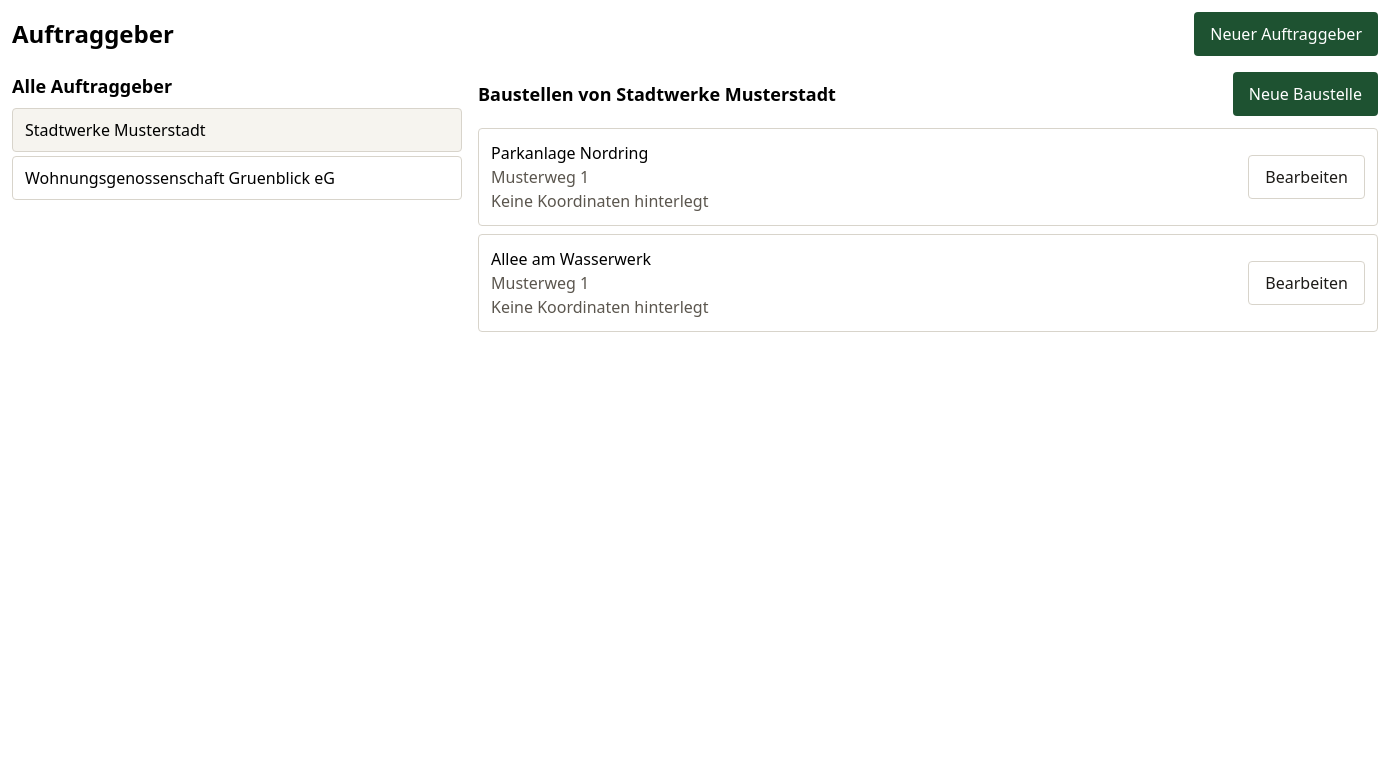
Test: CustomerPanel › fuehrt keine CRM-Felder - auf keiner der beiden Formularflaechen
What coordinates should you click on to do the following:
click the button "Stadtwerke Musterstadt"
I would click on:
 (115, 130)
Its box is [12,108,462,152].
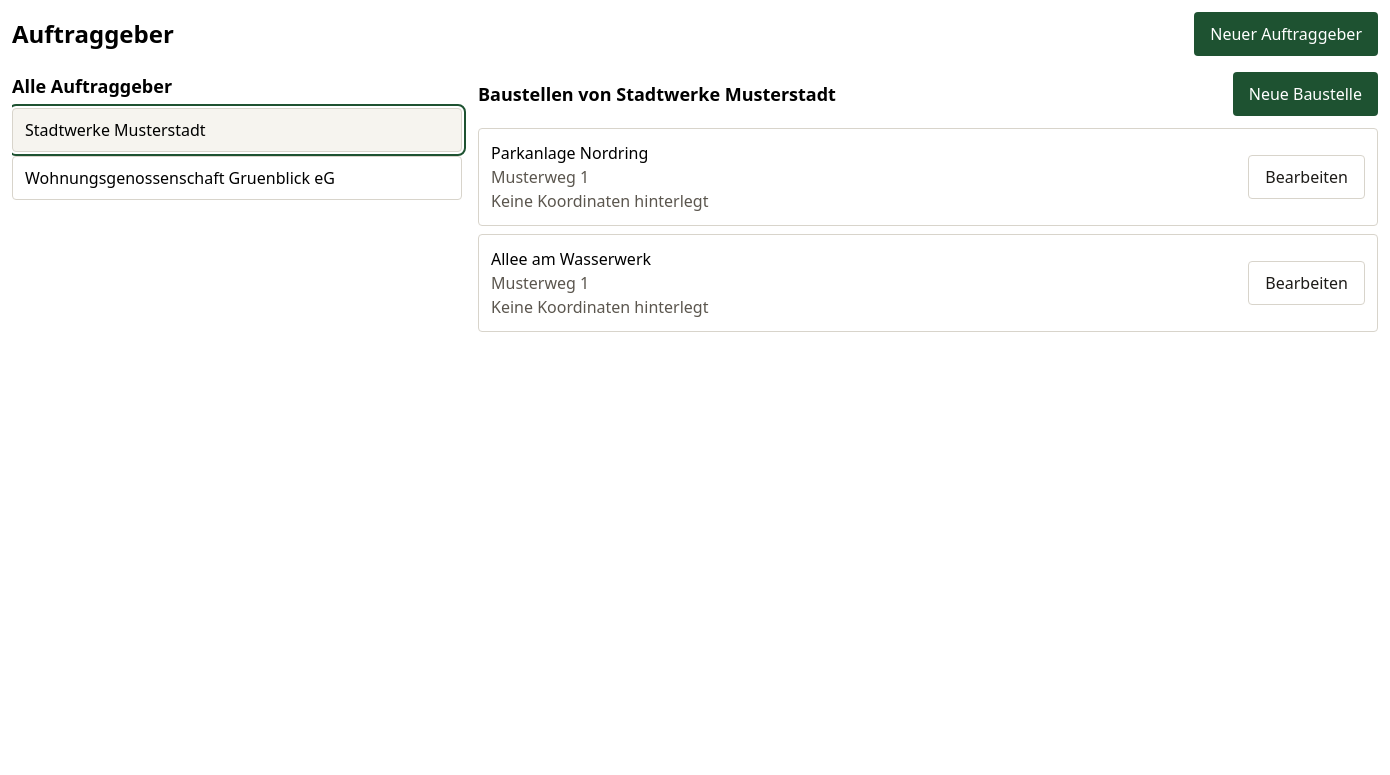
What coordinates should you click on to do the following:
click the button "Neue Baustelle"
I would click on:
 (1305, 94)
Its box is [1233,72,1378,116].
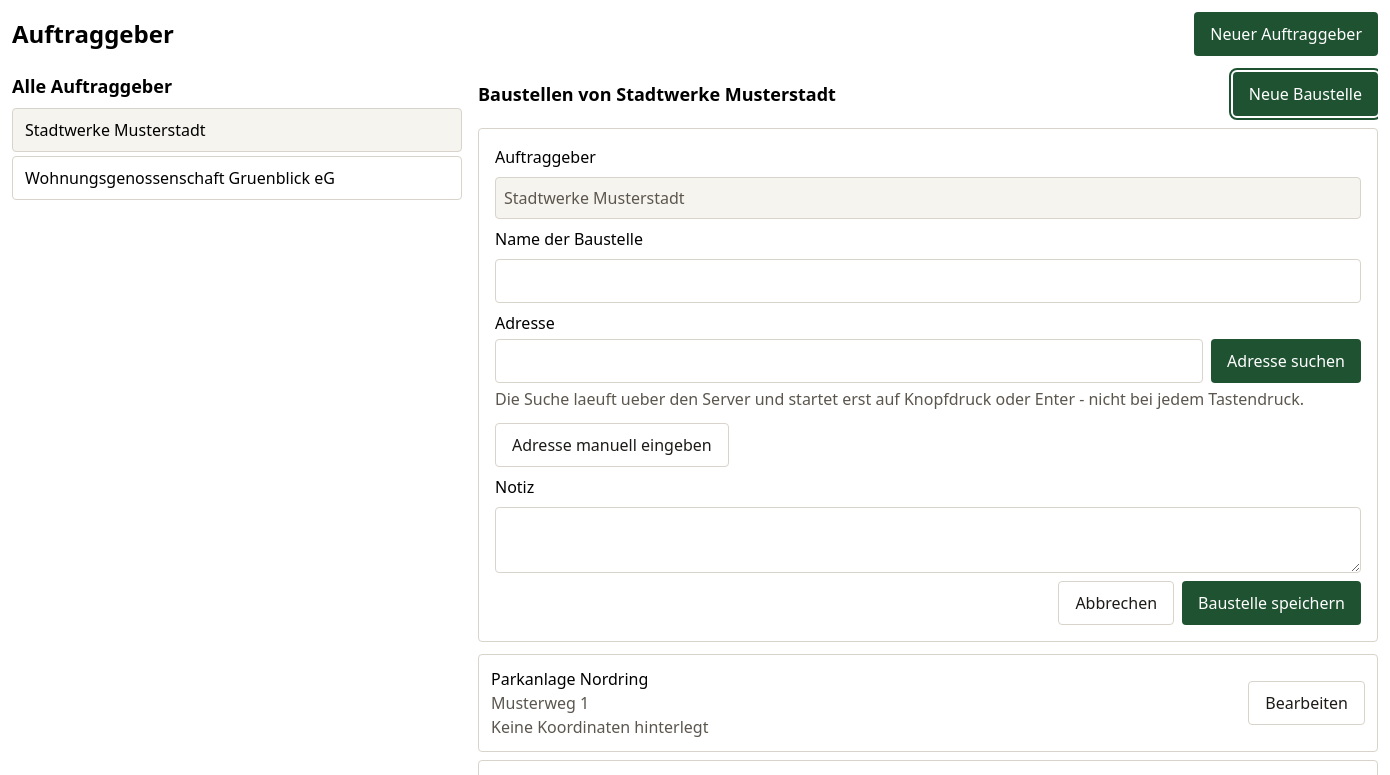
What coordinates should you click on to do the following:
click the button "Neuer Auftraggeber"
I would click on:
 (1286, 34)
Its box is [1194,12,1378,56].
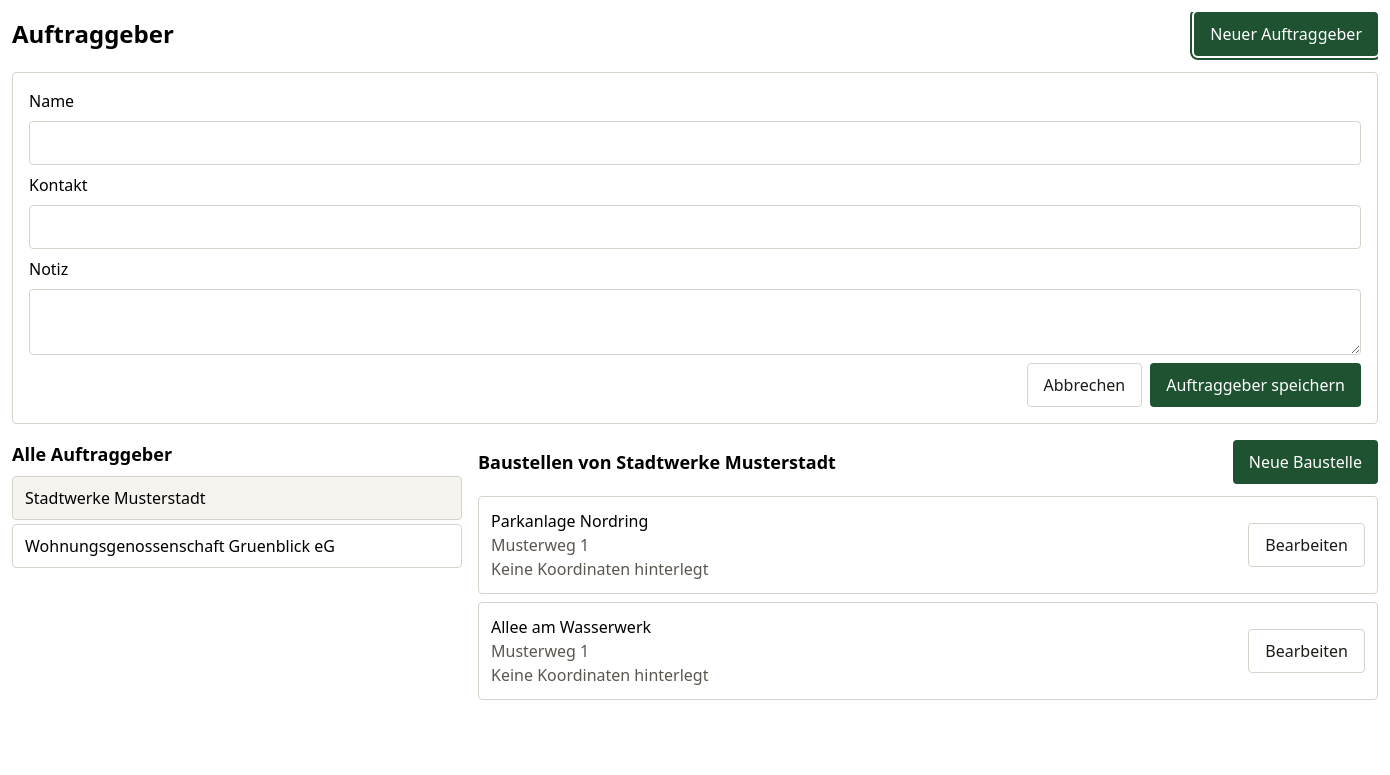
Now the form named "Neuer Auftraggeber" is shown, box [12,72,1378,424]
